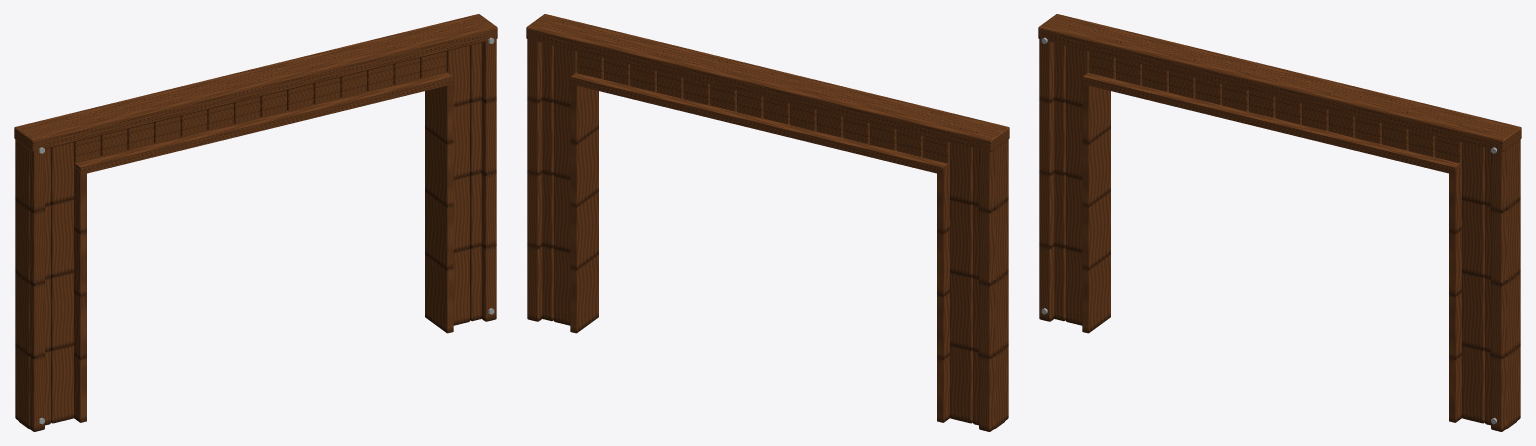
File: fortified-compound-expansion-gatehouse-front-opening-3cadec40__27105.glb
3 renders of one model, left to right at view 1: azimuth 30°, elevation 25°; view 2: azimuth 150°, elevation 25°; view 3: azimuth 330°, elevation 25°, orthographic.
Parts seen in each view (by area): view 1: gatehouse-front-opening; view 2: gatehouse-front-opening; view 3: gatehouse-front-opening.
Part boxes in pixels (x1,y1,x2,y2): gatehouse-front-opening: (14,14,497,431); gatehouse-front-opening: (526,14,1009,431); gatehouse-front-opening: (1038,14,1521,431).
Bounding box in the file's own units: 4 × 2.4 × 0.3331.
Materials: 2 (1 with a texture image).
